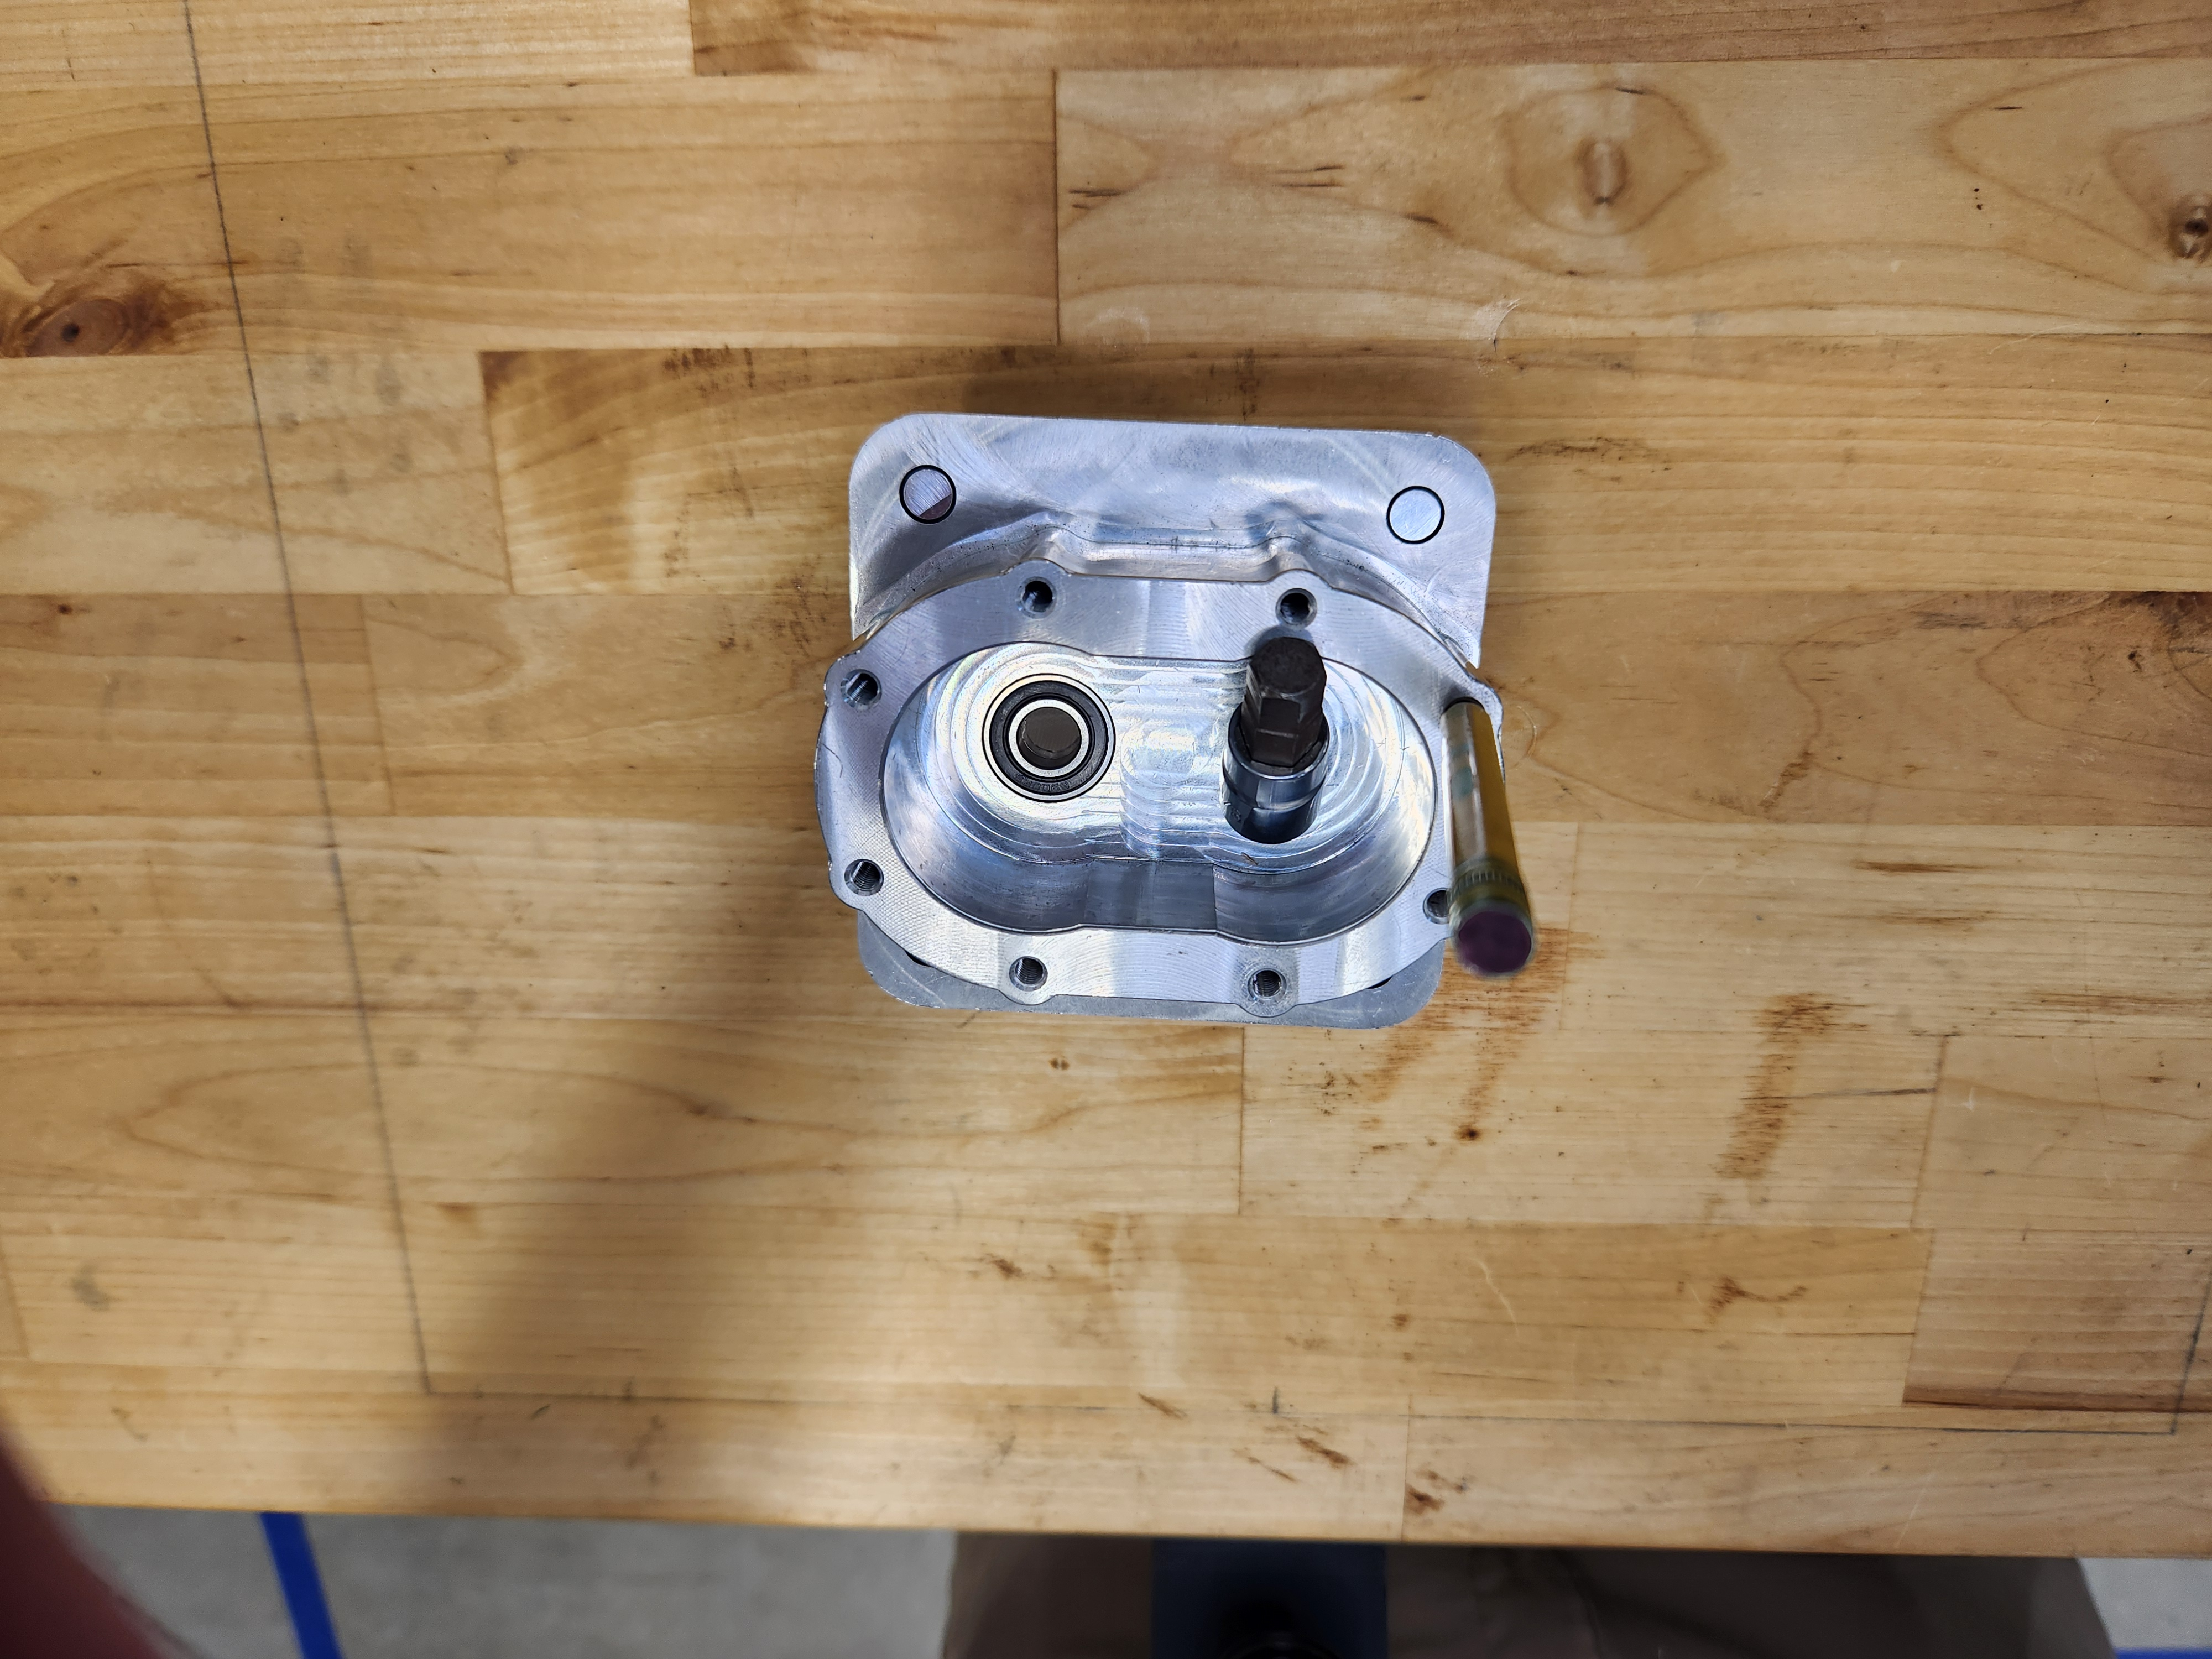Tool Bit: (1217, 631, 1345, 854)
pencil: (1435, 692, 1536, 985)
